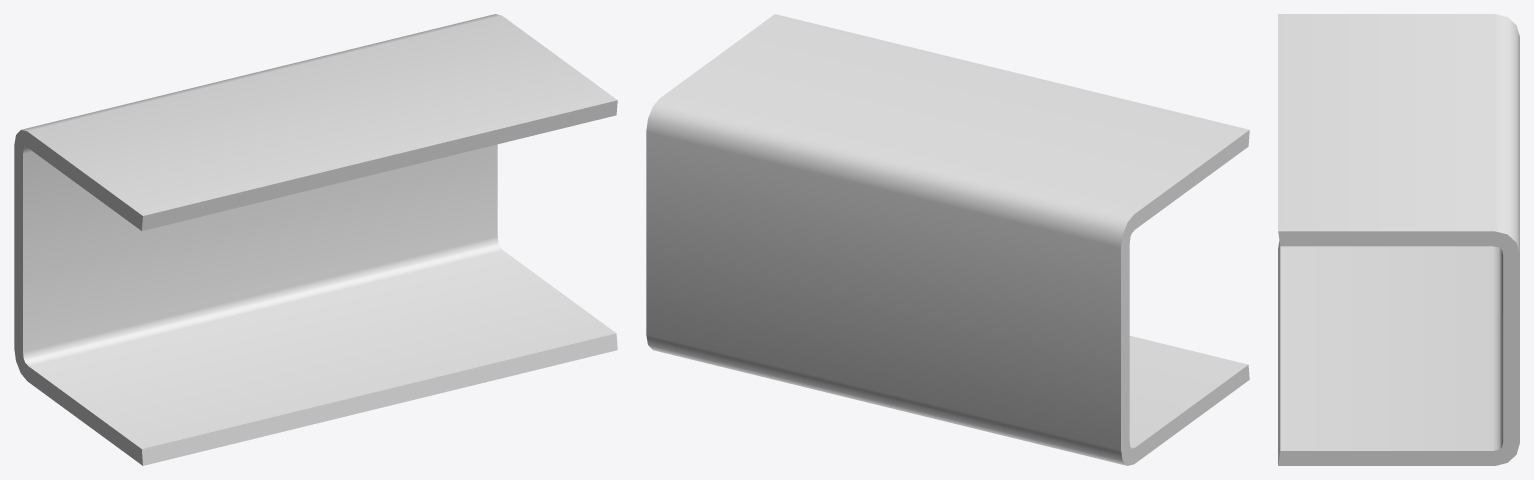
Rendered from Furn_Table_1.fbx.
3 views of the same model, side by side, from view 1: azimuth 30°, elevation 25°; view 2: azimuth 150°, elevation 25°; view 3: azimuth 270°, elevation 25° (orthographic). The views are drawn at different scales.
Visible parts, largest first — view 1: Furn_Table_1; view 2: Furn_Table_1; view 3: Furn_Table_1.
Boxes of the visible parts, x1,y1,x2,y2 form: Furn_Table_1: (14, 14, 617, 465); Furn_Table_1: (646, 14, 1249, 465); Furn_Table_1: (1278, 14, 1519, 465).
Bounding box in the file's own units: 2.13 × 1.07 × 1.
